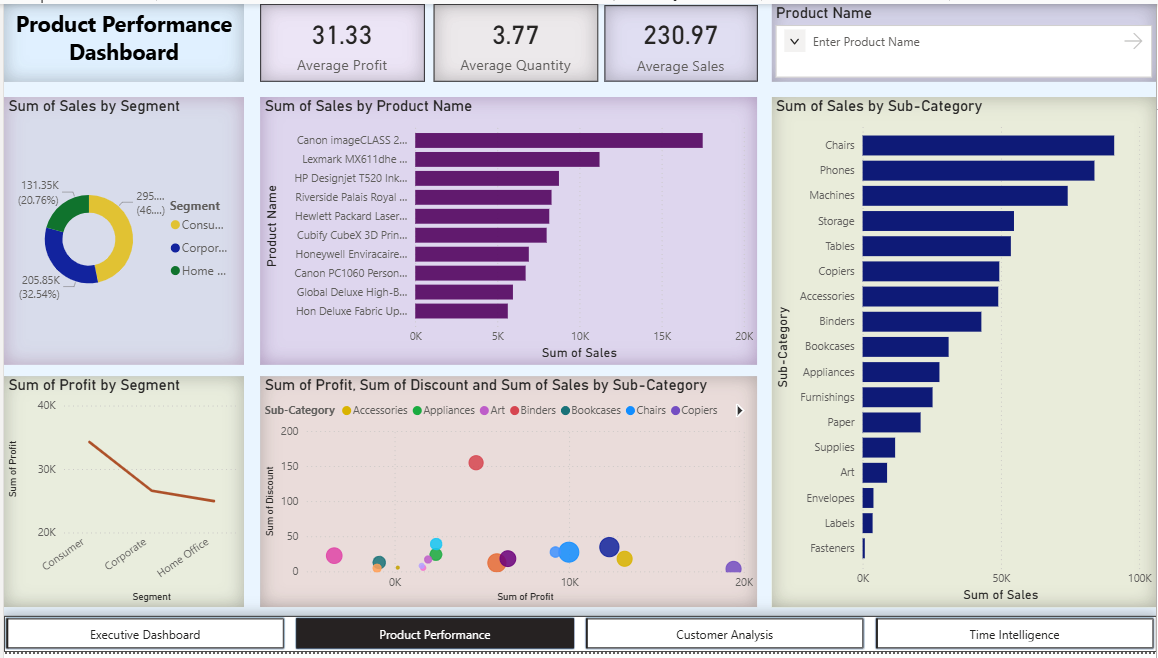

This screenshot's page, from the dashboard's own definition file:
{"tool":"powerbi","page":{"name":"Product Performance","canvas":[1280,720],"ordinal":1},"visuals":[{"type":"pageNavigator","box":[0,680,1280.7,39.7],"z":0},{"type":"card","fields":{"Values":["DateTable.Average Sales"]},"box":[667.3,1.4,170,85],"z":1000},{"type":"card","fields":{"Values":["DateTable.Average Profit"]},"box":[284.8,0,182.8,86.4],"z":2000},{"type":"card","fields":{"Values":["DateTable.Average Quantity"]},"box":[477.4,0,182.8,86.4],"z":3000},{"type":"textSlicer","fields":{"Values":["Sample - Superstore.Product Name"]},"box":[852.8,0,427.8,86.4],"z":4000},{"type":"donutChart","fields":{"Category":["Sample - Superstore.Segment"],"Y":["Sum(Sample - Superstore.Sales)"]},"box":[0,103.4,266.3,297.5],"z":5000},{"type":"barChart","fields":{"Y":["Sum(Sample - Superstore.Sales)"],"Category":["Sample - Superstore.Sub-Category"]},"box":[852.8,103.4,427.8,566.7],"z":6000},{"type":"clusteredBarChart","fields":{"Category":["Sample - Superstore.Product Name"],"Y":["Sum(Sample - Superstore.Sales)"]},"box":[284.8,103.4,552.5,297.5],"z":7000},{"type":"lineChart","fields":{"Category":["Sample - Superstore.Segment"],"Y":["Sum(Sample - Superstore.Profit)"]},"box":[0,413.7,266.3,256.4],"z":8000},{"type":"scatterChart","fields":{"X":["Sum(Sample - Superstore.Profit)"],"Y":["Sum(Sample - Superstore.Discount)"],"Series":["Sample - Superstore.Sub-Category"],"Size":["Sum(Sample - Superstore.Sales)"]},"box":[284.8,413.7,552.5,256.4],"z":9000},{"type":"textbox","box":[0,0,266.3,86.4],"z":10000}]}

Visuals, with their boxes in screenshot pixels (x1, y1, x2, y2), scaled from the page's 1280x720 canvas onto the 1158x658 screenshot:
pageNavigator: (left=0, top=621, right=1157, bottom=657)
card - DateTable.Average Sales: (left=604, top=1, right=757, bottom=79)
card - DateTable.Average Profit: (left=258, top=0, right=423, bottom=79)
card - DateTable.Average Quantity: (left=432, top=0, right=597, bottom=79)
textSlicer - Sample - Superstore.Product Name: (left=772, top=0, right=1157, bottom=79)
donutChart - Sample - Superstore.Segment x Sum(Sample - Superstore.Sales): (left=0, top=94, right=241, bottom=366)
barChart - Sum(Sample - Superstore.Sales) x Sample - Superstore.Sub-Category: (left=772, top=94, right=1157, bottom=612)
clusteredBarChart - Sample - Superstore.Product Name x Sum(Sample - Superstore.Sales): (left=258, top=94, right=757, bottom=366)
lineChart - Sample - Superstore.Segment x Sum(Sample - Superstore.Profit): (left=0, top=378, right=241, bottom=612)
scatterChart - Sum(Sample - Superstore.Profit) x Sum(Sample - Superstore.Discount): (left=258, top=378, right=757, bottom=612)
textbox: (left=0, top=0, right=241, bottom=79)
